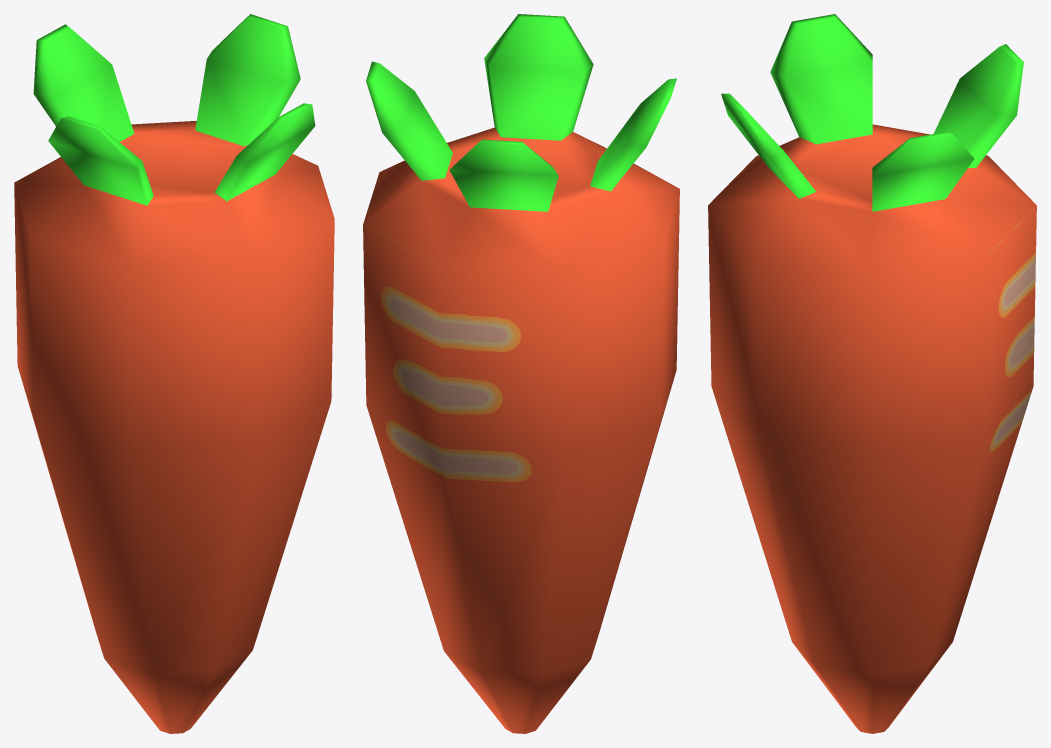
File: Carrot.obj
3 renders of one model, left to right at view 1: azimuth 30°, elevation 25°; view 2: azimuth 150°, elevation 25°; view 3: azimuth 270°, elevation 25°, orthographic.
Parts seen in each view (by area): view 1: 円柱; view 2: 円柱; view 3: 円柱.
Part boxes in pixels (x1,y1,x2,y2): 円柱: (14,14,334,733); 円柱: (363,14,679,733); 円柱: (708,14,1036,733).
Bounding box in the file's own units: 1.82 × 3.97 × 1.82.
1 material, 1 textured.
